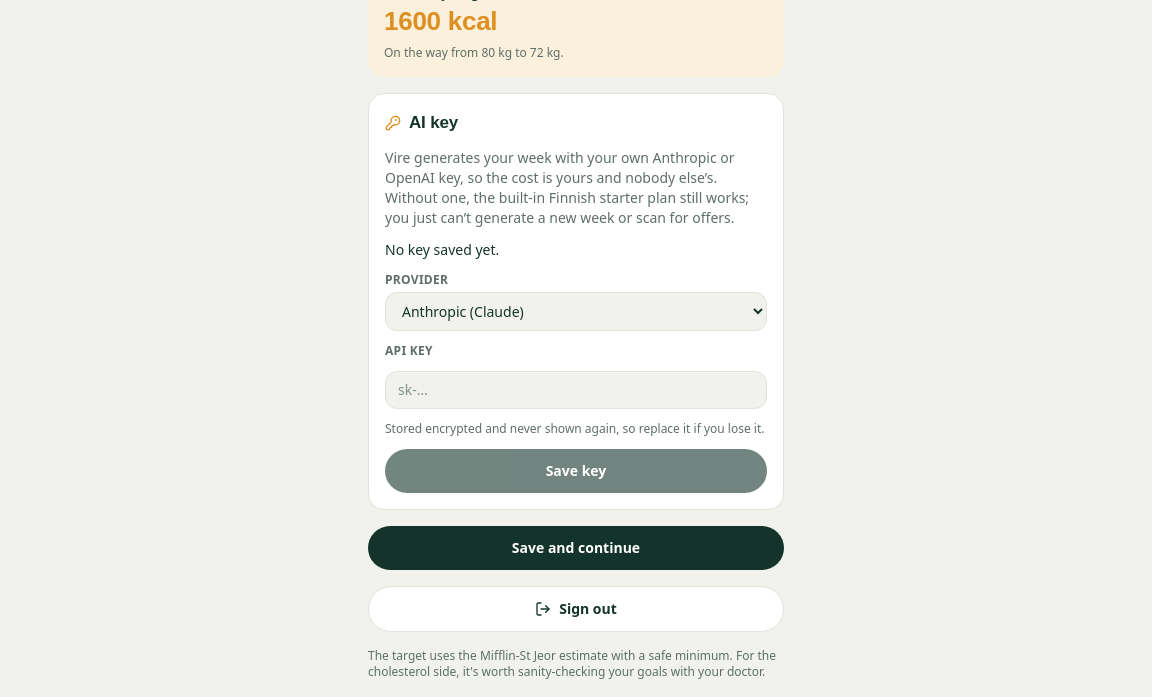
Scenario: saving › marks the offending field when the server rejects a value
(page scrolled)
Click the button "Save and continue" at (576, 548), box [368, 526, 784, 570]
(page scrolled)
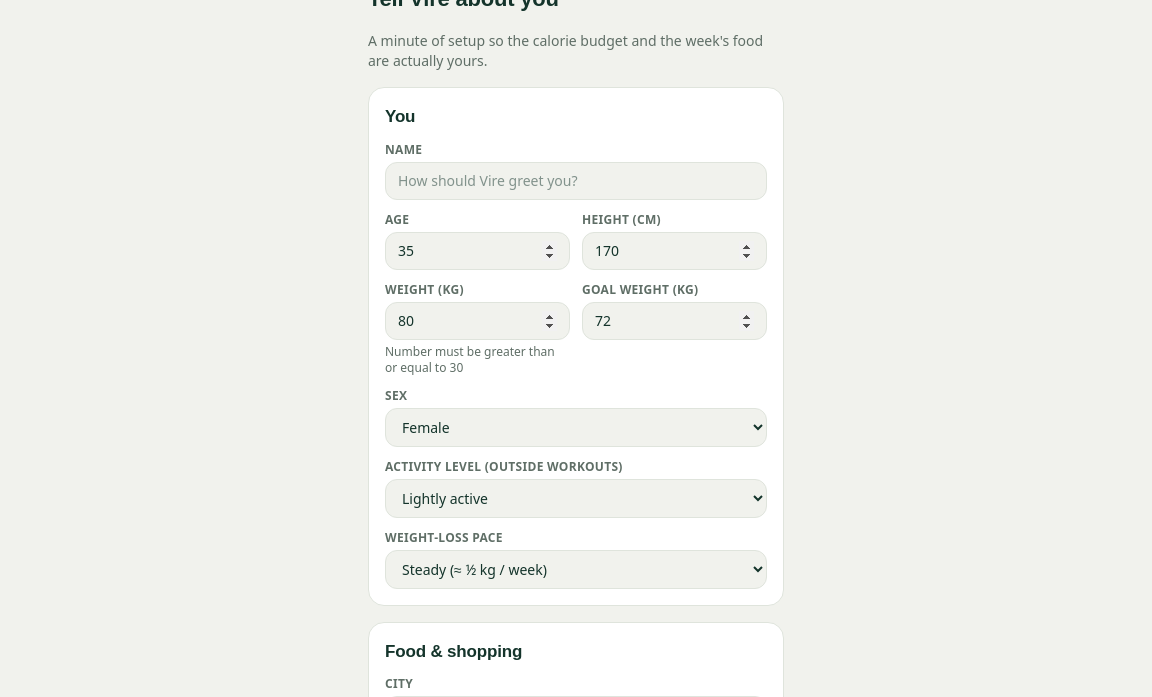
Expected: the text "Number must be greater than or equal to 30" is shown, [385, 344, 570, 376]
